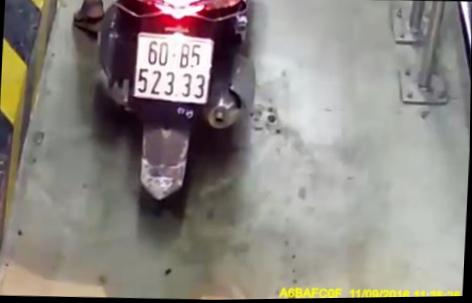LP: (129, 27, 221, 109)
